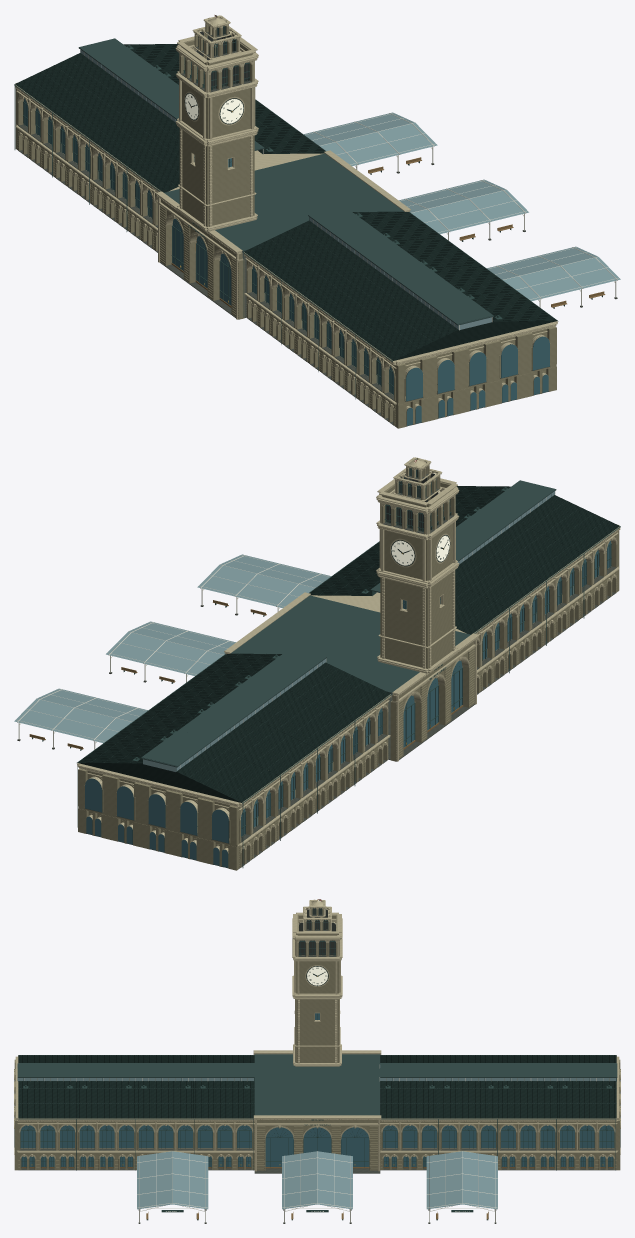
The model's file is ferry-building.glb.
The picture shows the model from 3 angles, top to bottom: view 1: azimuth 30°, elevation 25°; view 2: azimuth 150°, elevation 25°; view 3: azimuth 270°, elevation 25°; orthographic projection. The views are drawn at different scales.
Visible parts, largest first — view 1: ferry_terminal_canopies / skylight glass, ferry_clock_tower / warm gray Colusa sandstone, ferry_central_pavilion / roof seam shadow, ferry_south_end / warm gray Colusa sandstone, ferry_clock_tower / carved limestone cornices, ferry_south_3 / weathered dark green gray roof, ferry_south_1 / weathered dark green gray roof, ferry_south_0 / weathered dark green gray roof, ferry_south_2 / weathered dark green gray roof, ferry_north_3 / weathered dark green gray roof, ferry_south_end / recessed blue gray glazing, ferry_north_1 / weathered dark green gray roof (+34 smaller); view 2: ferry_terminal_canopies / skylight glass, ferry_clock_tower / warm gray Colusa sandstone, ferry_central_pavilion / roof seam shadow, ferry_north_end / warm gray Colusa sandstone, ferry_clock_tower / carved limestone cornices, ferry_north_3 / weathered dark green gray roof, ferry_north_1 / weathered dark green gray roof, ferry_north_0 / weathered dark green gray roof, ferry_north_2 / weathered dark green gray roof, ferry_south_3 / weathered dark green gray roof, ferry_north_end / recessed blue gray glazing, ferry_south_1 / weathered dark green gray roof (+36 smaller); view 3: ferry_terminal_canopies / skylight glass, ferry_central_pavilion / roof seam shadow, ferry_clock_tower / warm gray Colusa sandstone, ferry_clock_tower / carved limestone cornices, ferry_south_1 / weathered dark green gray roof, ferry_north_1 / weathered dark green gray roof, ferry_north_2 / weathered dark green gray roof, ferry_north_3 / weathered dark green gray roof, ferry_south_2 / weathered dark green gray roof, ferry_south_3 / weathered dark green gray roof, ferry_south_0 / weathered dark green gray roof, ferry_north_0 / weathered dark green gray roof (+45 smaller).
Boxes of the visible parts, box(x1,y1,x2,y2) form: ferry_terminal_canopies / skylight glass: box(304, 112, 620, 301); ferry_clock_tower / warm gray Colusa sandstone: box(179, 17, 254, 226); ferry_central_pavilion / roof seam shadow: box(164, 153, 403, 251); ferry_south_end / warm gray Colusa sandstone: box(396, 326, 556, 428); ferry_clock_tower / carved limestone cornices: box(175, 15, 258, 231); ferry_south_3 / weathered dark green gray roof: box(356, 293, 557, 360); ferry_south_1 / weathered dark green gray roof: box(281, 239, 482, 306); ferry_south_0 / weathered dark green gray roof: box(244, 211, 445, 278); ferry_south_2 / weathered dark green gray roof: box(319, 266, 519, 333); ferry_north_3 / weathered dark green gray roof: box(15, 44, 179, 111); ferry_south_end / recessed blue gray glazing: box(406, 336, 549, 425); ferry_north_1 / weathered dark green gray roof: box(90, 100, 290, 165); ferry_terminal_canopies / skylight glass: box(14, 554, 331, 743); ferry_clock_tower / warm gray Colusa sandstone: box(380, 458, 455, 668); ferry_central_pavilion / roof seam shadow: box(231, 595, 470, 693); ferry_north_end / warm gray Colusa sandstone: box(78, 768, 238, 870); ferry_clock_tower / carved limestone cornices: box(376, 457, 459, 673); ferry_north_3 / weathered dark green gray roof: box(78, 735, 278, 802); ferry_north_1 / weathered dark green gray roof: box(152, 681, 353, 748); ferry_north_0 / weathered dark green gray roof: box(189, 653, 390, 720); ferry_north_2 / weathered dark green gray roof: box(115, 708, 315, 775); ferry_south_3 / weathered dark green gray roof: box(455, 486, 619, 553); ferry_north_end / recessed blue gray glazing: box(85, 778, 228, 867); ferry_south_1 / weathered dark green gray roof: box(344, 541, 544, 607); ferry_terminal_canopies / skylight glass: box(137, 1151, 497, 1209); ferry_central_pavilion / roof seam shadow: box(254, 1054, 380, 1115); ferry_clock_tower / warm gray Colusa sandstone: box(295, 900, 339, 1062); ferry_clock_tower / carved limestone cornices: box(292, 899, 342, 1066); ferry_south_1 / weathered dark green gray roof: box(136, 1055, 195, 1118); ferry_north_1 / weathered dark green gray roof: box(439, 1055, 498, 1118); ferry_north_2 / weathered dark green gray roof: box(498, 1055, 557, 1118); ferry_north_3 / weathered dark green gray roof: box(557, 1055, 616, 1118); ferry_south_2 / weathered dark green gray roof: box(77, 1055, 136, 1118); ferry_south_3 / weathered dark green gray roof: box(18, 1055, 77, 1118); ferry_south_0 / weathered dark green gray roof: box(195, 1055, 254, 1118); ferry_north_0 / weathered dark green gray roof: box(380, 1055, 439, 1118).
Bounding box in the file's own units: 92.31 × 75 × 193.
Materials: 16 (4 with a texture image).
